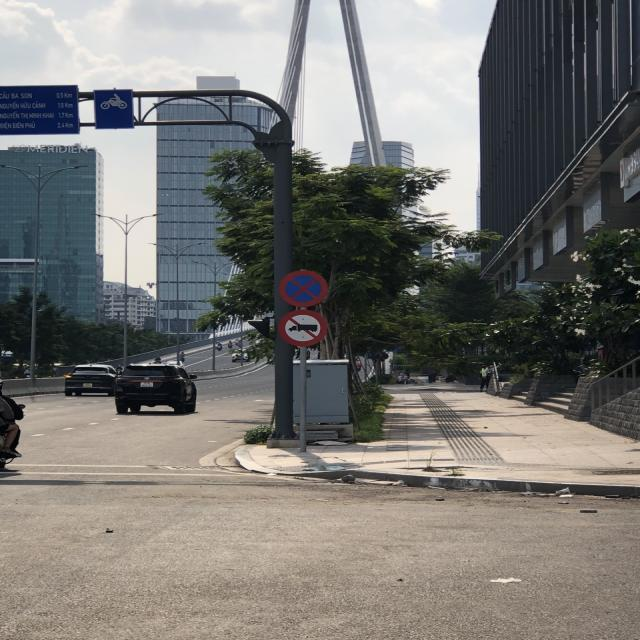Bien bao cam dung xe va do xe: (272, 264, 341, 310)
Bien bao cam xe so-mi ro-mooc: (269, 308, 339, 350)
